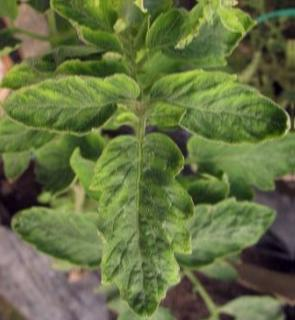Tomato leaf yellow virus: (91, 125, 189, 300), (151, 58, 293, 144), (157, 195, 284, 273), (13, 61, 142, 132), (13, 190, 110, 269)
